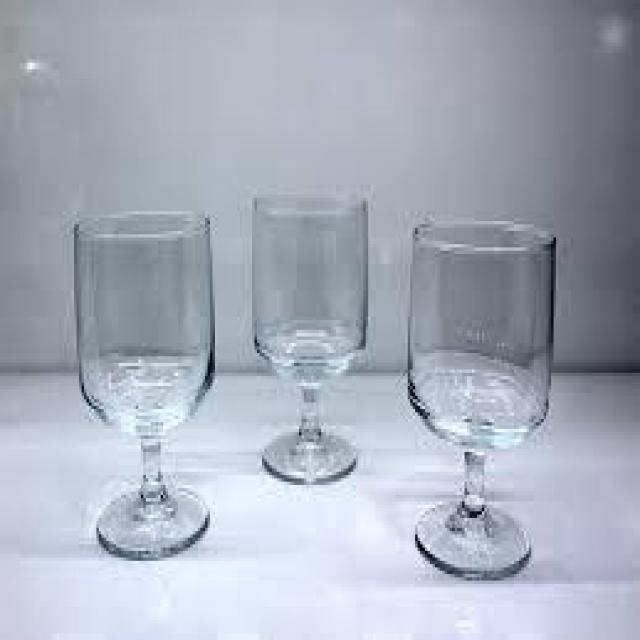glass: (70, 210, 216, 560)
